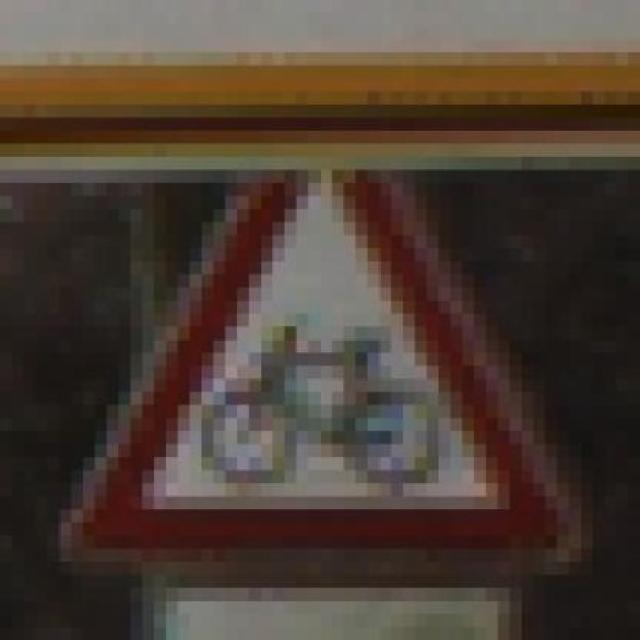CYCLE ROUTE AHEAD WARNING: (48, 169, 604, 588)
